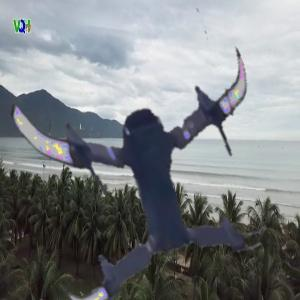drone: (11, 23, 284, 296)
